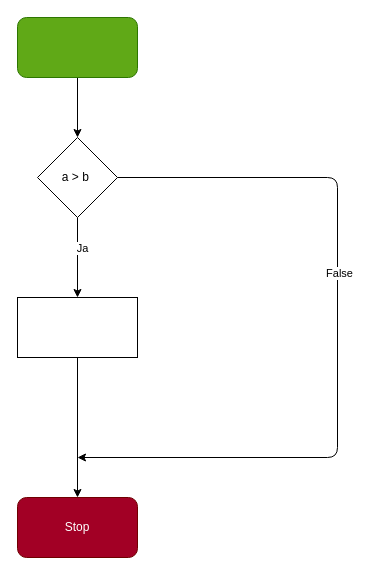
Image size: 370x575. Some labels were removed from this diagram. Here are the shapes that lost their labels. From the top down, the box of each, then its label:
(16, 16, 138, 78): Start
(16, 296, 138, 358): Anweisung
